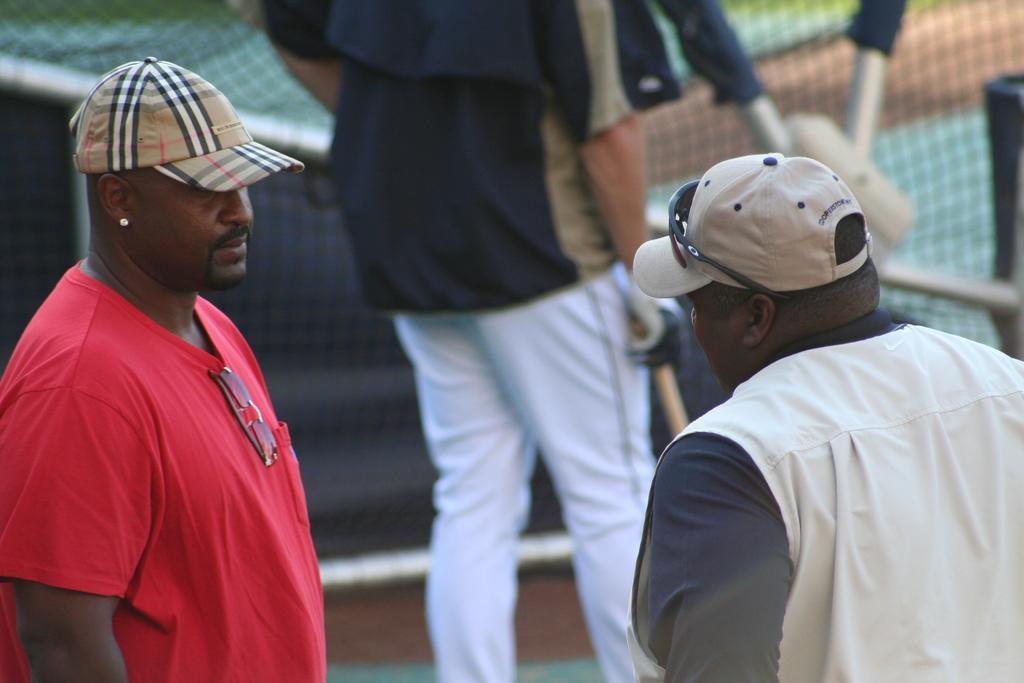Hat: (632, 147, 872, 297), (68, 51, 304, 195)
